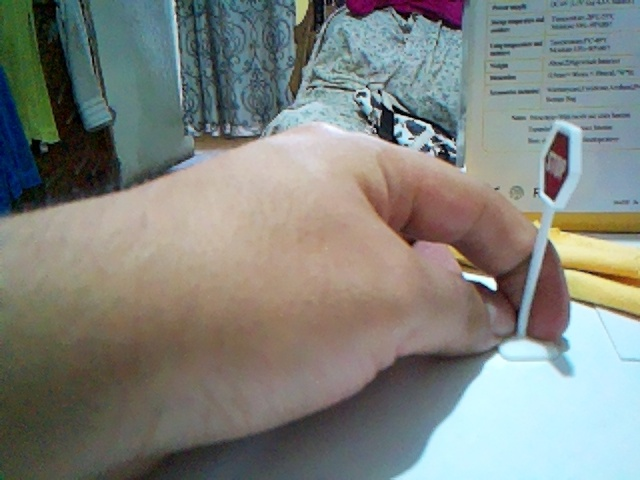stop_sign: (543, 126, 581, 207)
